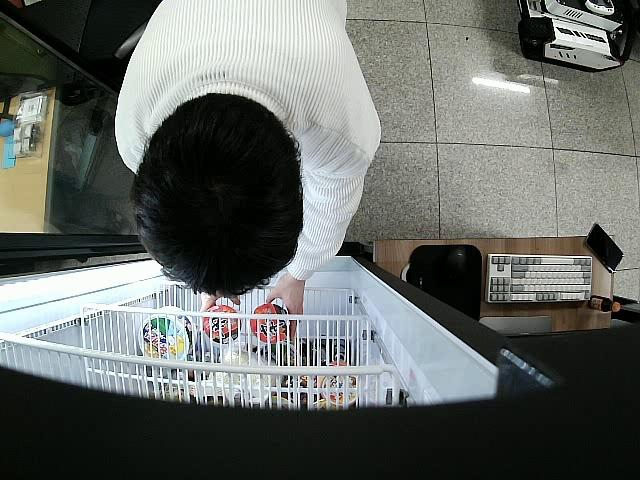00_hand: (267, 273, 305, 337)
02_shinRamen_S: (250, 304, 290, 344), (204, 306, 240, 344)
